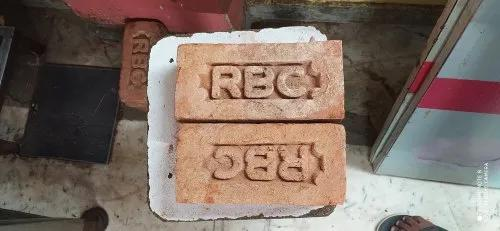brick: (176, 123, 347, 206), (174, 40, 345, 121)
